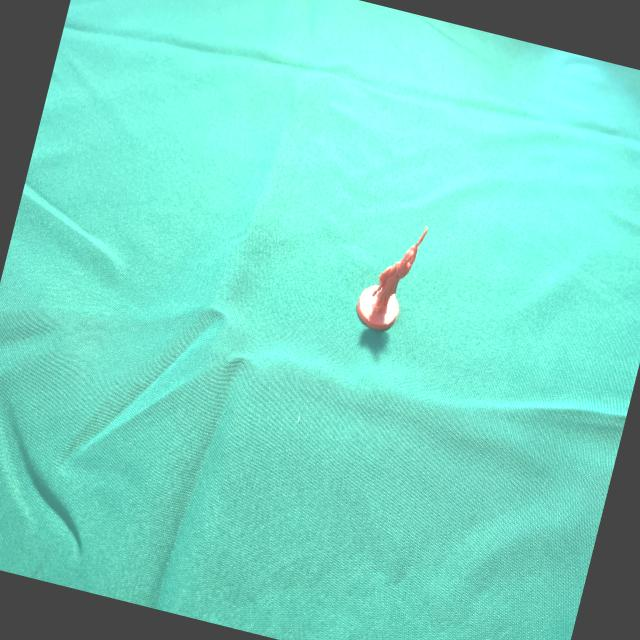amon_follower: (356, 229, 427, 330)
